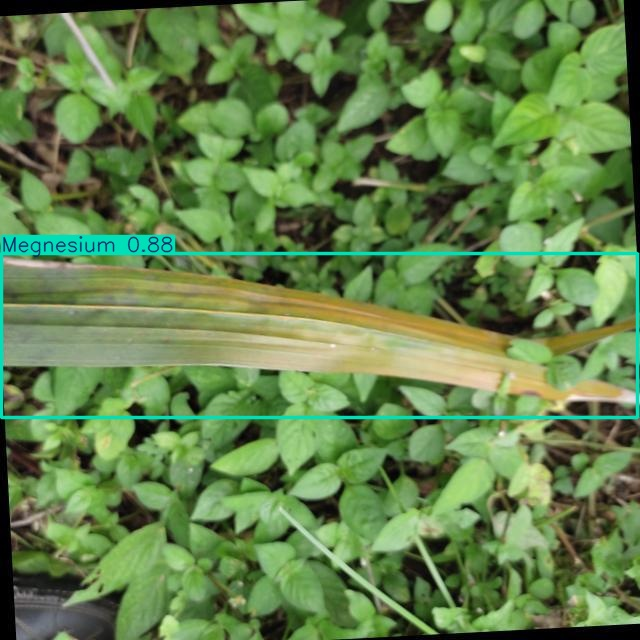Megnesium: (2, 253, 638, 417)
